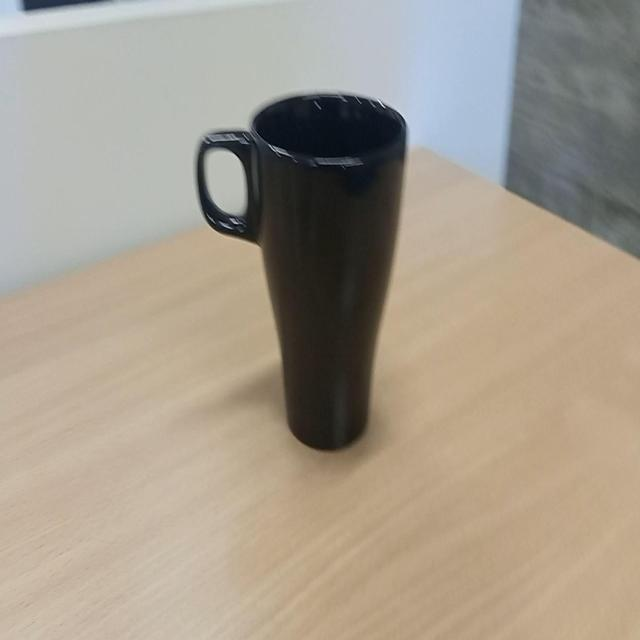cup: (179, 84, 447, 484)
